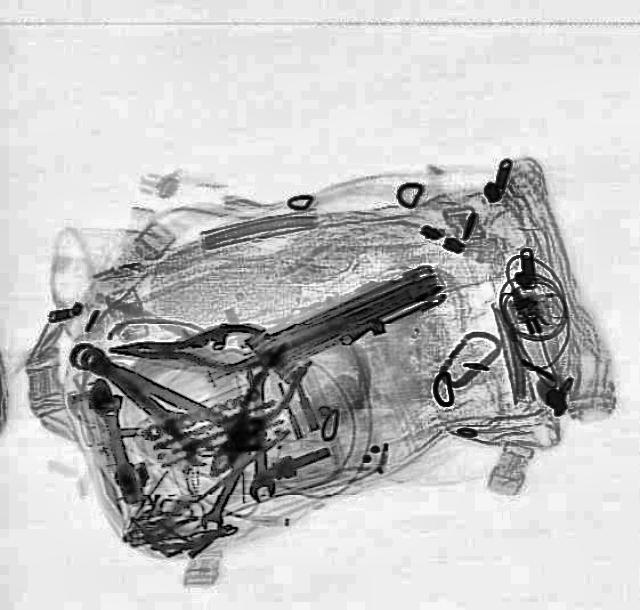Pliers: (109, 322, 263, 374)
Wrench: (70, 340, 222, 470), (80, 374, 148, 506), (196, 439, 258, 533), (242, 368, 276, 502)
